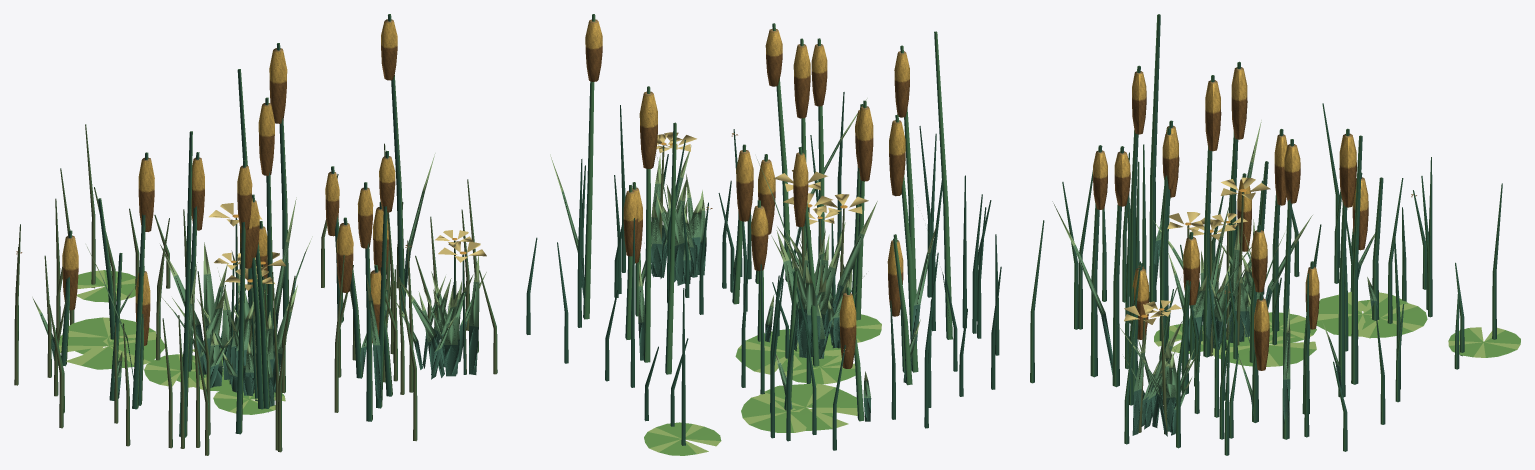
File: Wetland_13_Orilla_Mixta.glb
3 views of the same model, side by side, from view 1: azimuth 30°, elevation 25°; view 2: azimuth 150°, elevation 25°; view 3: azimuth 270°, elevation 25° (orthographic). The views are drawn at different scales.
Parts seen in each view (by area): view 1: Wetland_13_Orilla_Mixta; view 2: Wetland_13_Orilla_Mixta; view 3: Wetland_13_Orilla_Mixta.
Boxes of the visible parts, bbox=[...] form: Wetland_13_Orilla_Mixta: bbox=[14, 14, 497, 455]; Wetland_13_Orilla_Mixta: bbox=[526, 14, 1001, 455]; Wetland_13_Orilla_Mixta: bbox=[1030, 14, 1520, 455].
Bounding box in the file's own units: 3.09 × 2.14 × 3.23.
2 materials, 1 textured.
